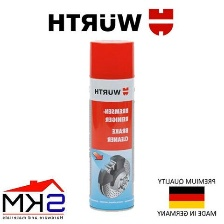aerosol_cans: (87, 37, 136, 213)
